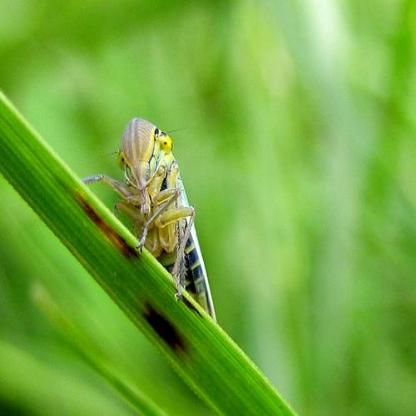Green-Leafhopper: (84, 117, 224, 338)
